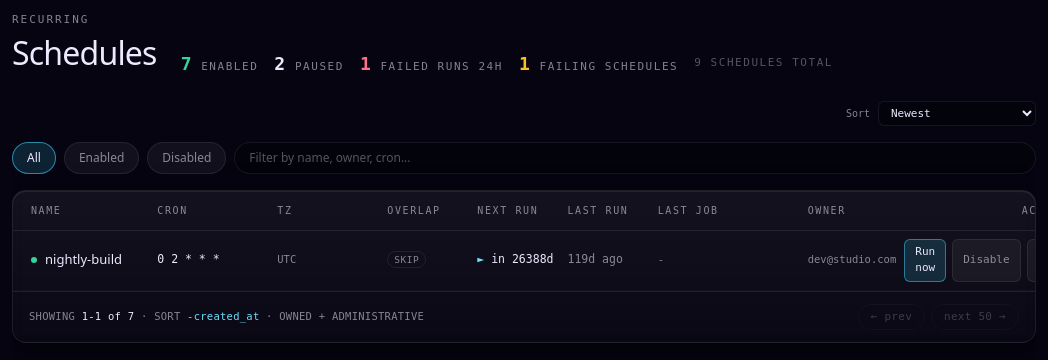
the footer says MATCHING exactly when a filter is active
Check: the link "nightly-build" is shown, box [45,250,122,270]
Check: the text "1-1 of 7" is shown, box [82,310,134,322]
Click the button "Enabled" at (102, 158), box [64,142,139,174]
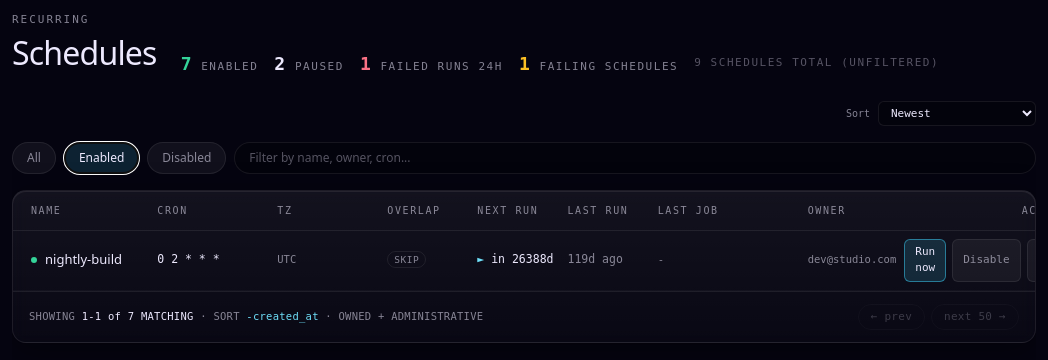
Check: the text "1-1 of 7 MATCHING" is shown, box [82,310,194,322]
